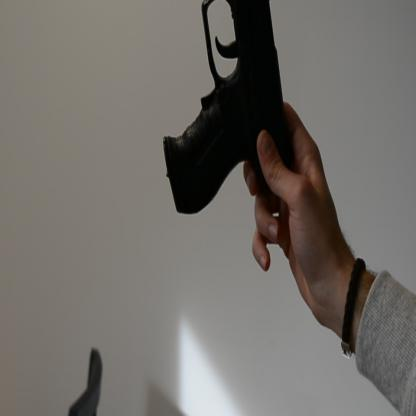gun: (161, 0, 292, 219)
